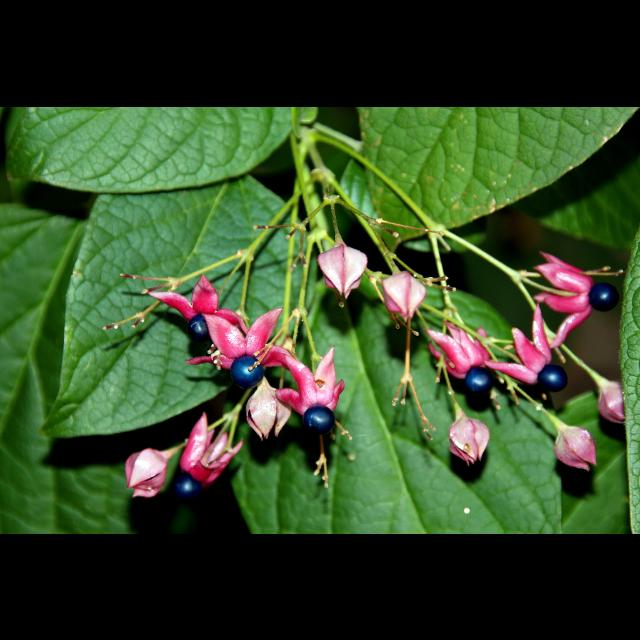Flower: (122, 274, 346, 500), (532, 251, 622, 349), (484, 304, 566, 388), (423, 321, 497, 394), (316, 239, 372, 299), (380, 268, 426, 326), (450, 404, 490, 468), (554, 415, 596, 469), (597, 373, 627, 425)
